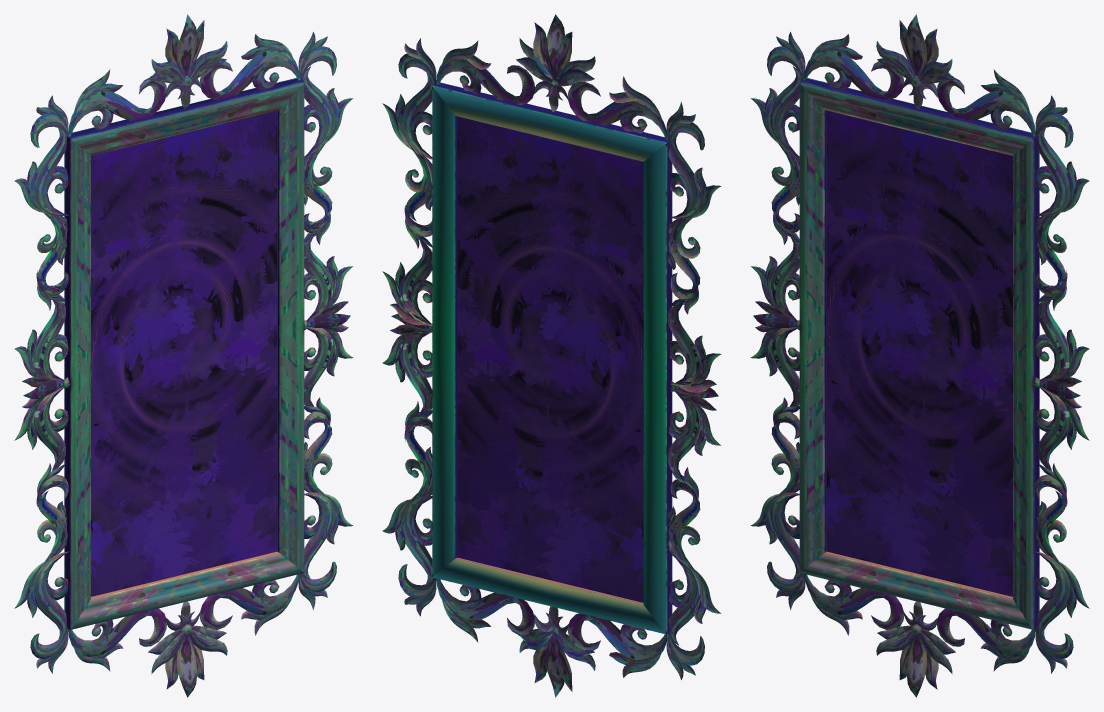
The model's file is decor_mirror.fbx.
The picture shows the model from 3 angles, left to right: view 1: azimuth 30°, elevation 25°; view 2: azimuth 150°, elevation 25°; view 3: azimuth 330°, elevation 25°; orthographic projection.
Parts seen in each view (by area): view 1: decor_mirror_glass, decor_mirror_frame; view 2: decor_mirror_glass, decor_mirror_frame; view 3: decor_mirror_glass, decor_mirror_frame.
Boxes of the visible parts, <box> form: decor_mirror_glass: <box>91,110,277,596</box>; decor_mirror_frame: <box>14,14,353,697</box>; decor_mirror_glass: <box>457,116,643,602</box>; decor_mirror_frame: <box>382,14,721,697</box>; decor_mirror_glass: <box>826,110,1012,596</box>; decor_mirror_frame: <box>750,14,1089,697</box>.
Size of the model in its own units: 1.44 by 2.78 by 0.075.
